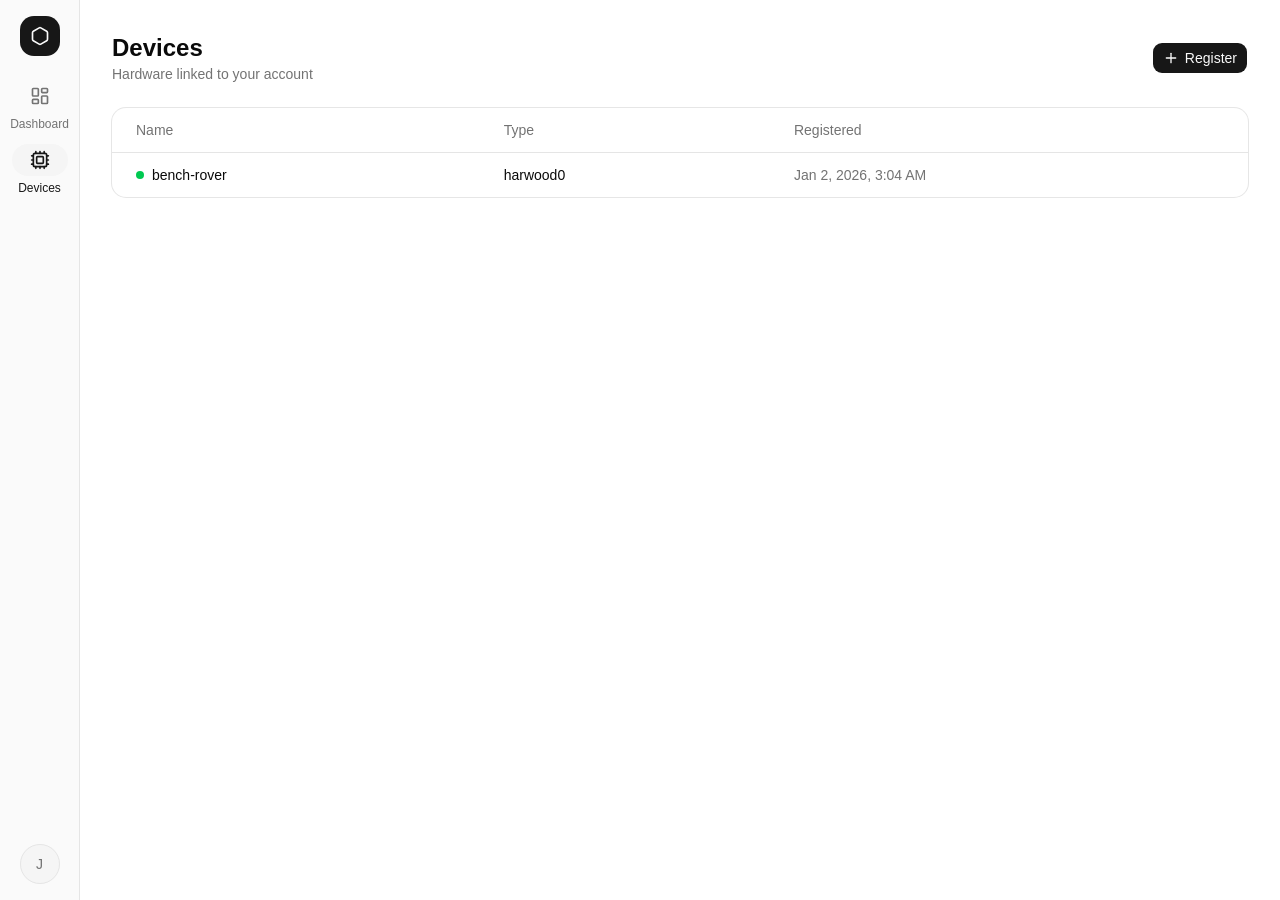
Test: devices › links each device name to its page
Click the link "bench-rover".
click(189, 175)  # box [152,165,227,185]
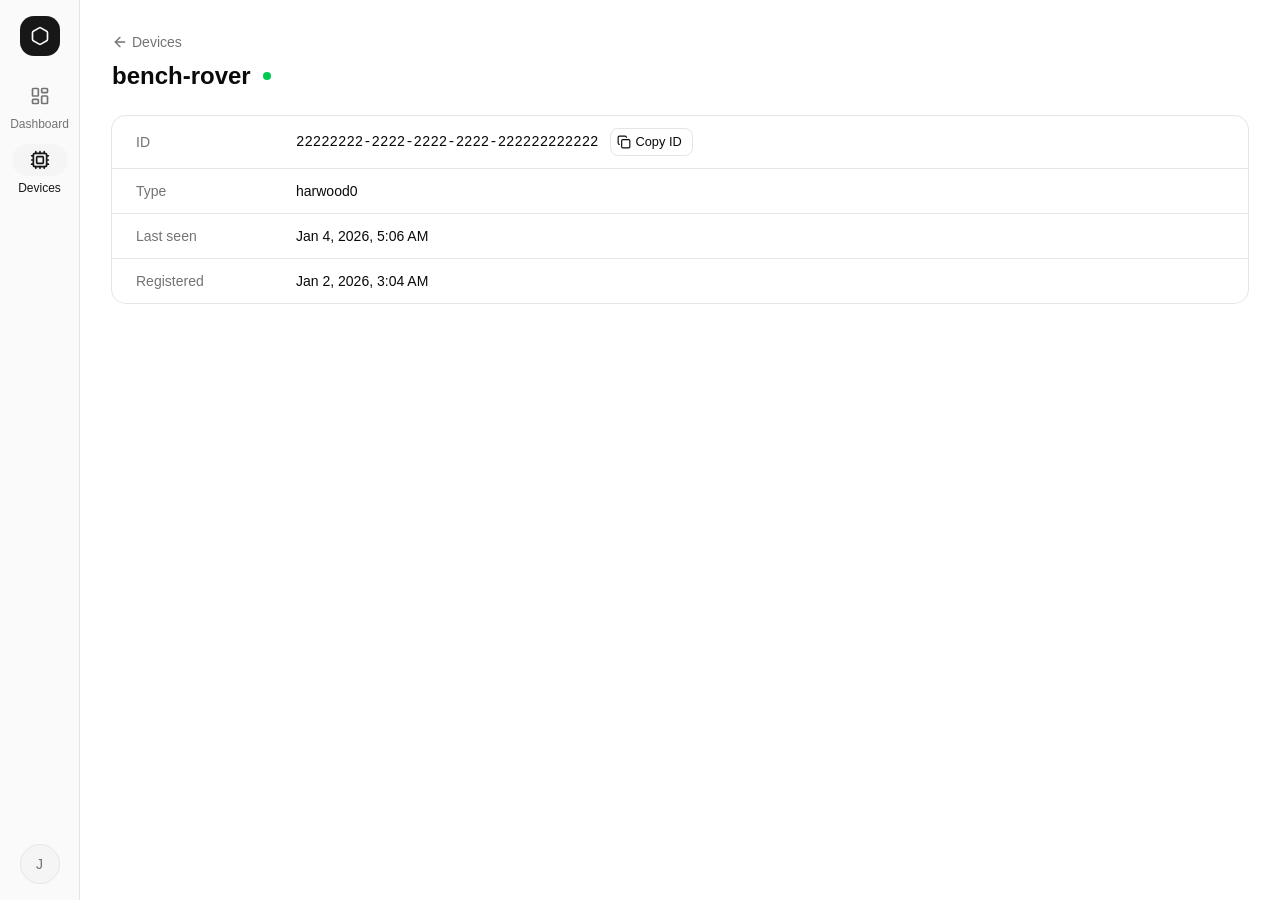
Now the heading "bench-rover" is shown, box [112,60,251,92]
